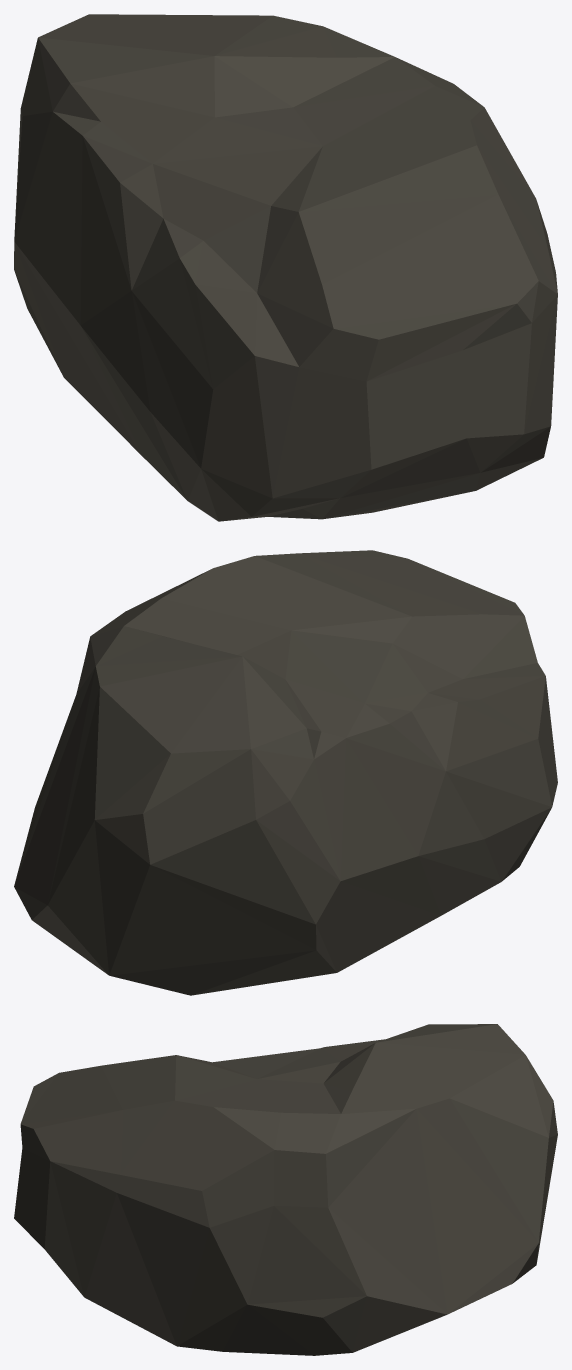
File: synty-rock-small-01.gltf
The picture shows the model from 3 angles, top to bottom: view 1: azimuth 30°, elevation 25°; view 2: azimuth 150°, elevation 25°; view 3: azimuth 270°, elevation 25°; orthographic projection. The views are drawn at different scales.
Visible parts, largest first — view 1: SM_Rock_Small_01; view 2: SM_Rock_Small_01; view 3: SM_Rock_Small_01.
Boxes of the visible parts, x1,y1,x2,y2 form: SM_Rock_Small_01: (14, 14, 557, 521); SM_Rock_Small_01: (14, 550, 557, 995); SM_Rock_Small_01: (14, 1024, 557, 1355).
Size of the model in its own units: 0.8574 by 0.6752 by 1.32.
1 material, 1 textured.
